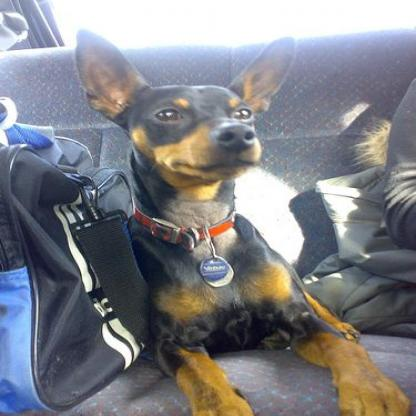miniature_pinscher: (67, 26, 412, 414)
